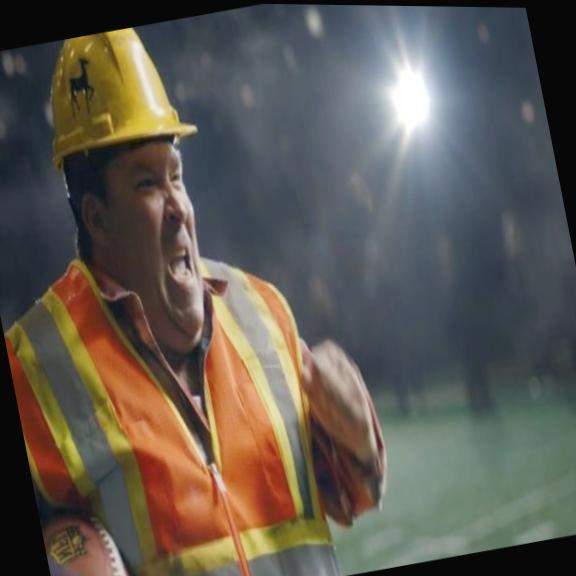safety_vest: (0, 226, 363, 576)
